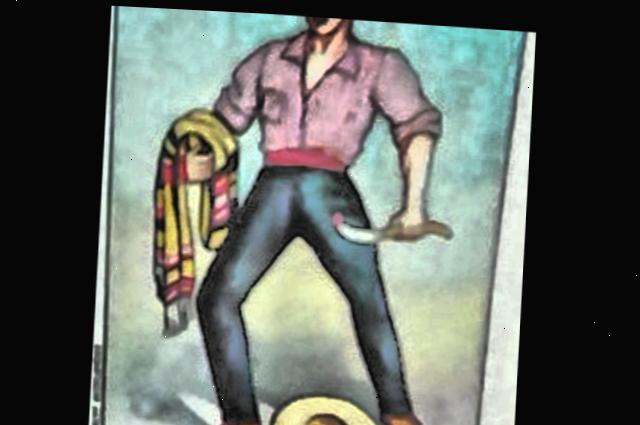El Valiente: (106, 5, 527, 425)
